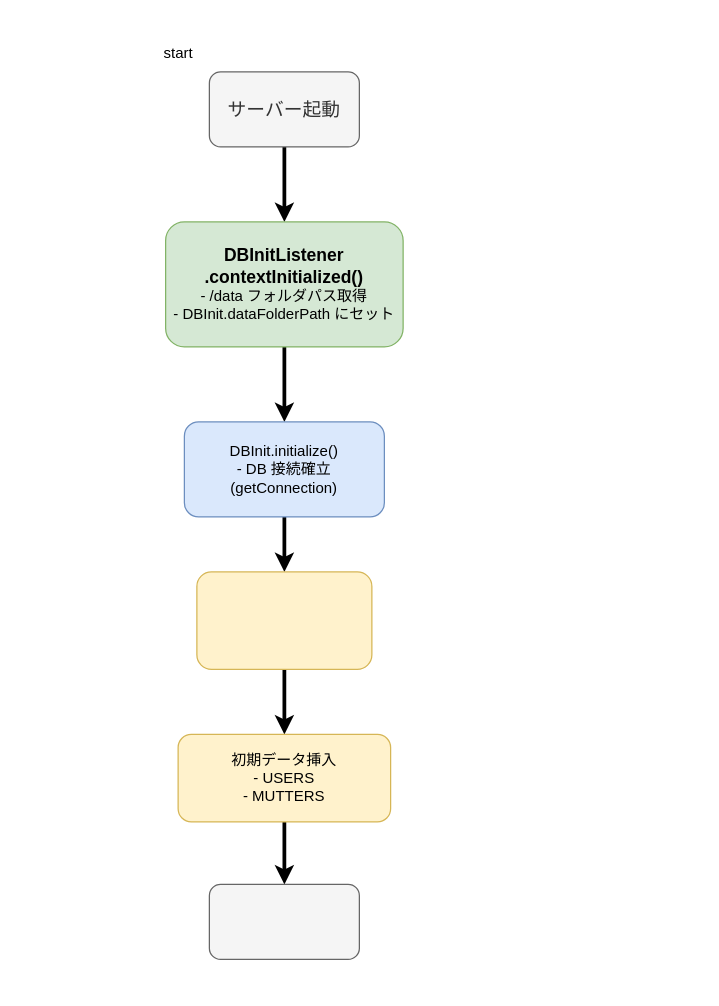
This 719x1006 diagram has some shape labels left out. The box of each missing label's shape, as (x1, y1, x2, y2) in pixels:
DB初期化完了: (208, 883, 359, 959)
テーブル作成 - USERS - MUTTERS - LIKES: (196, 571, 372, 669)
